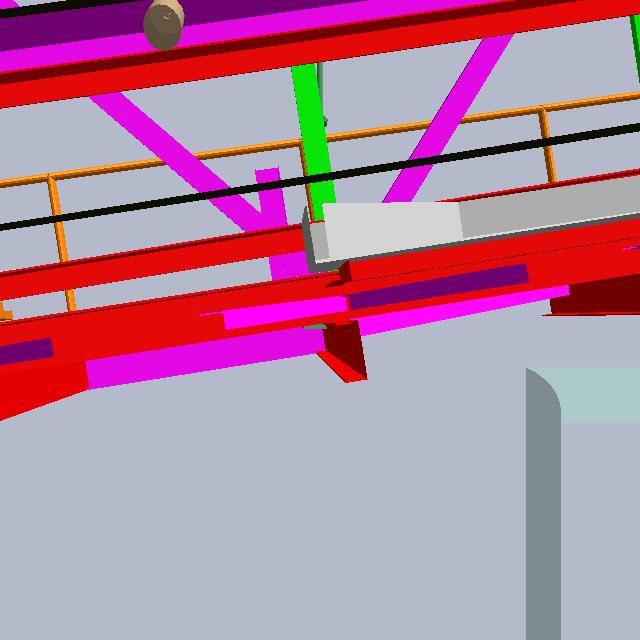Poste: (315, 56, 326, 265)
Soporte: (255, 161, 295, 309)
